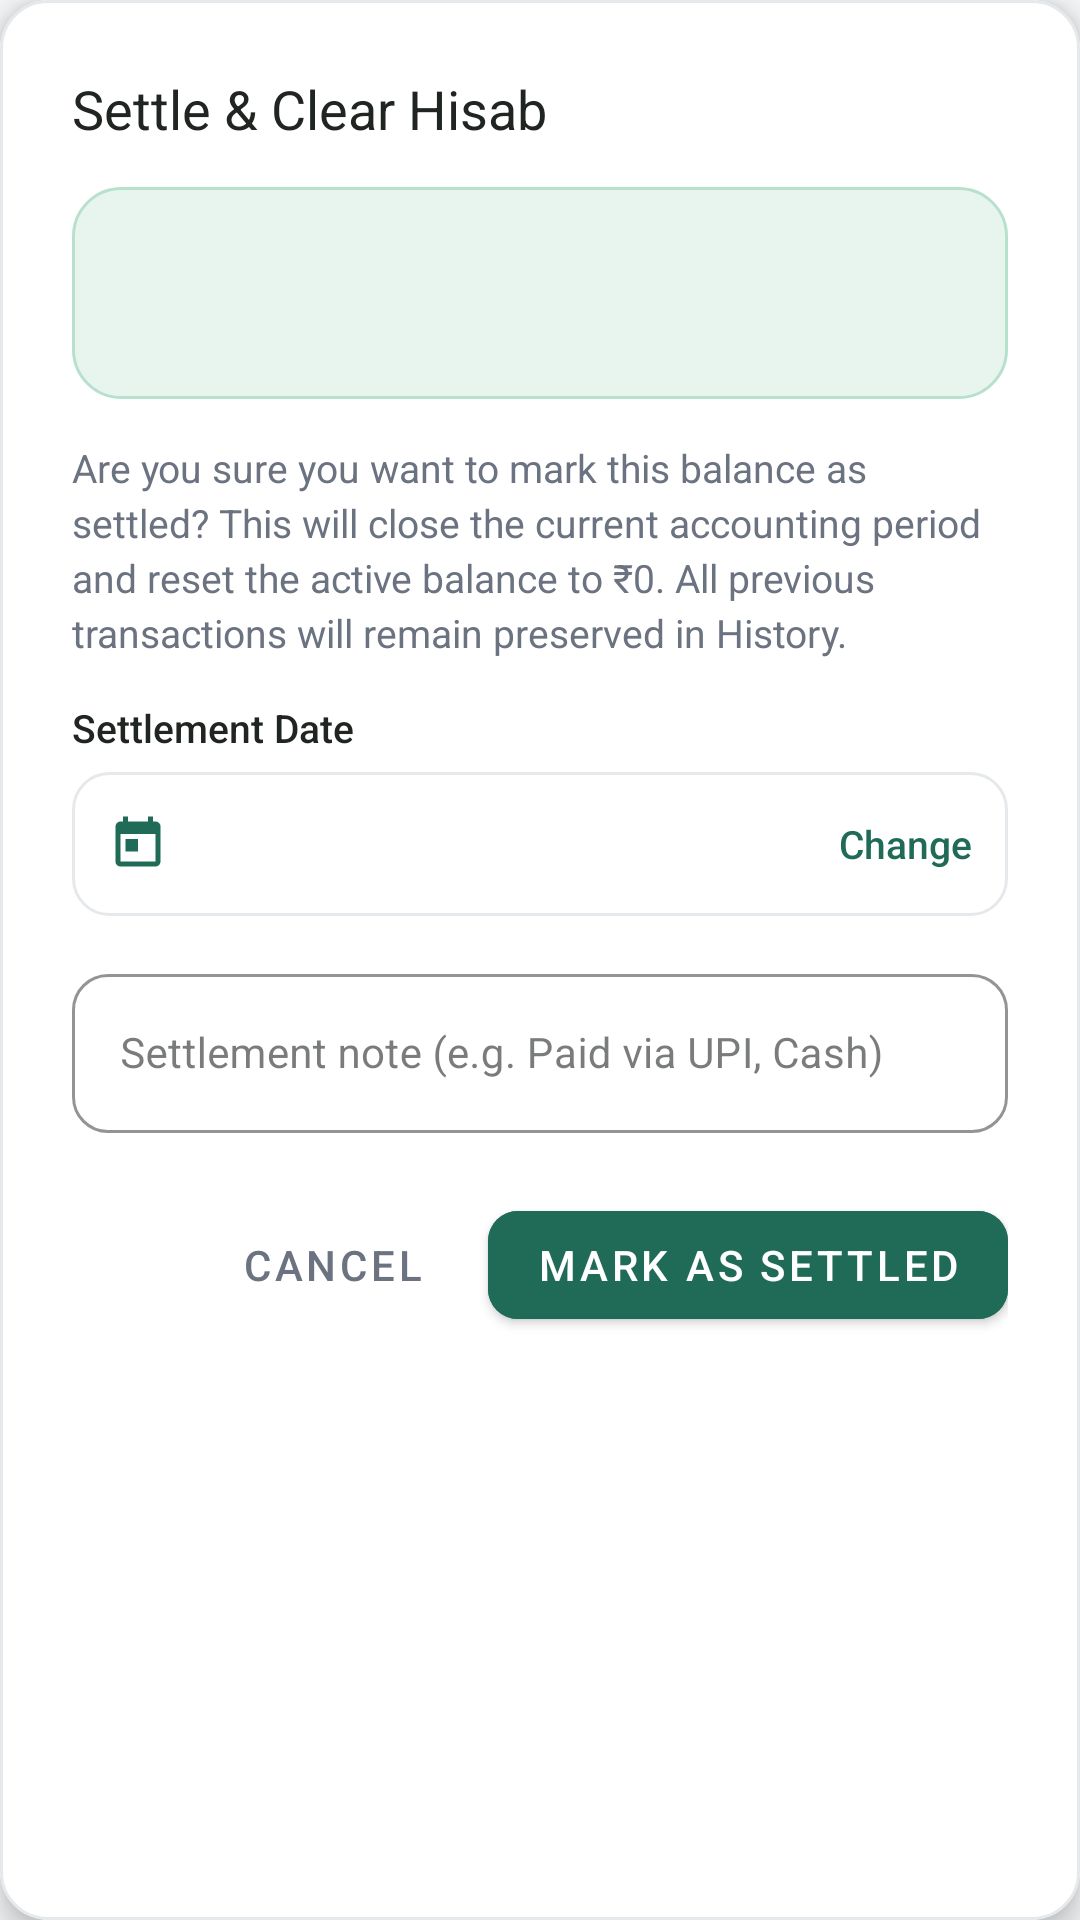

Icon bounding boxes for this 1080px x 1920px phone screenshot, format (x1, y1, x2, y2):
calendar: (115, 816, 161, 867)
